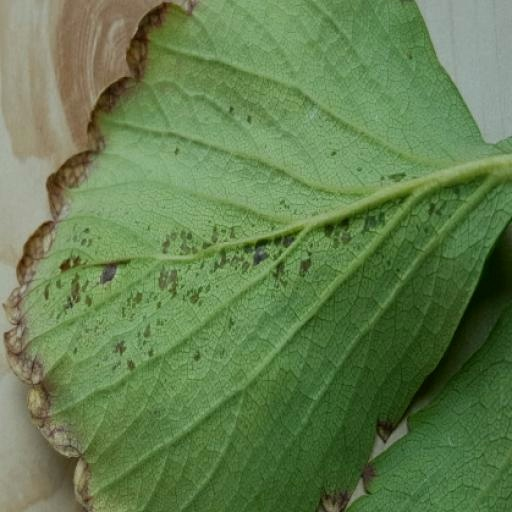Angular Leafspot: (0, 0, 495, 511)
